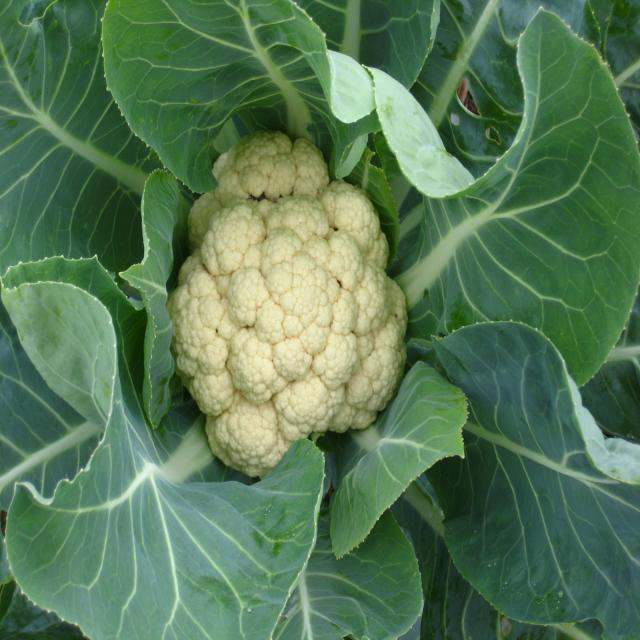cauliflower: (110, 72, 518, 574)
